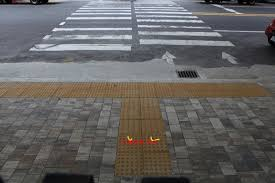guide_blocks: (1, 81, 275, 97), (120, 98, 173, 176)
